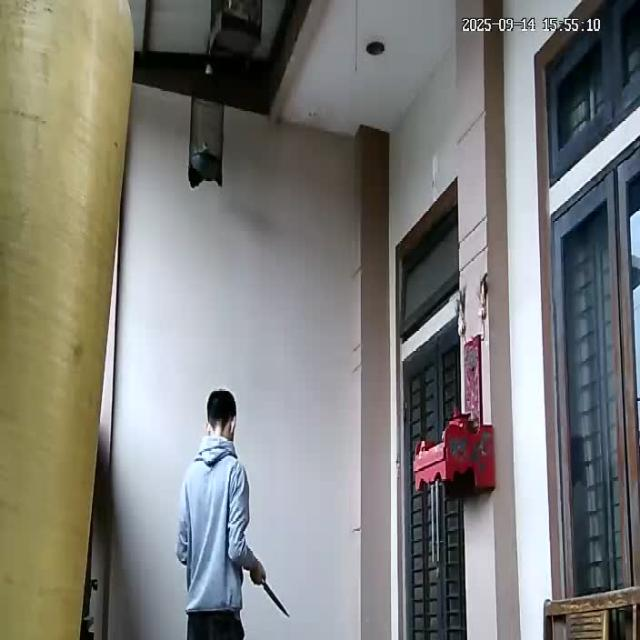senjata_tajam: (262, 580, 292, 620)
